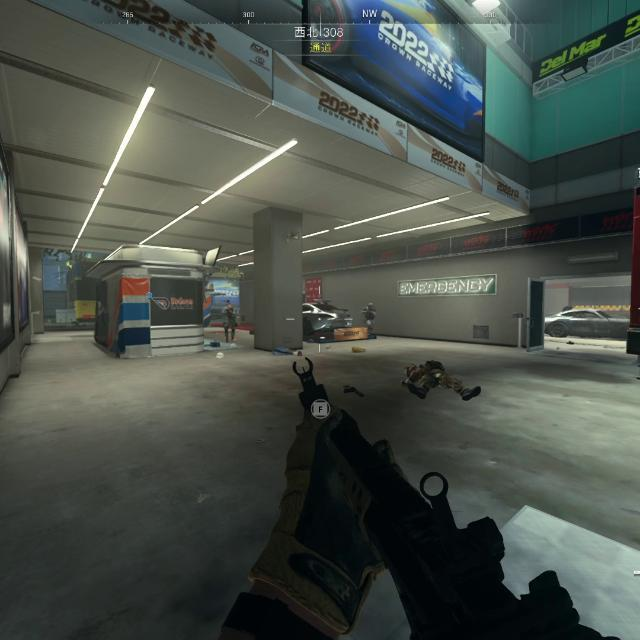MW2_body: (221, 302, 237, 342), (362, 303, 377, 334)
